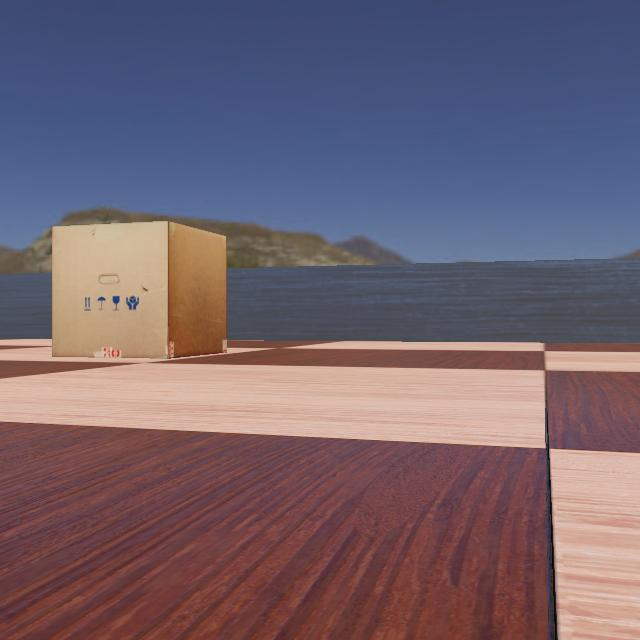cardboard-box: (36, 220, 230, 358)
